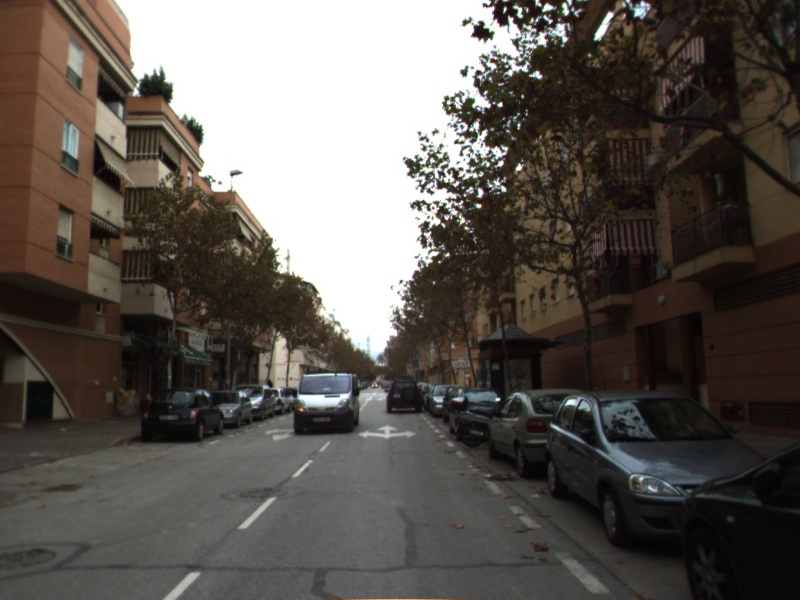STRAIGHT_LEFT_RIGHT: (357, 423, 418, 441)
